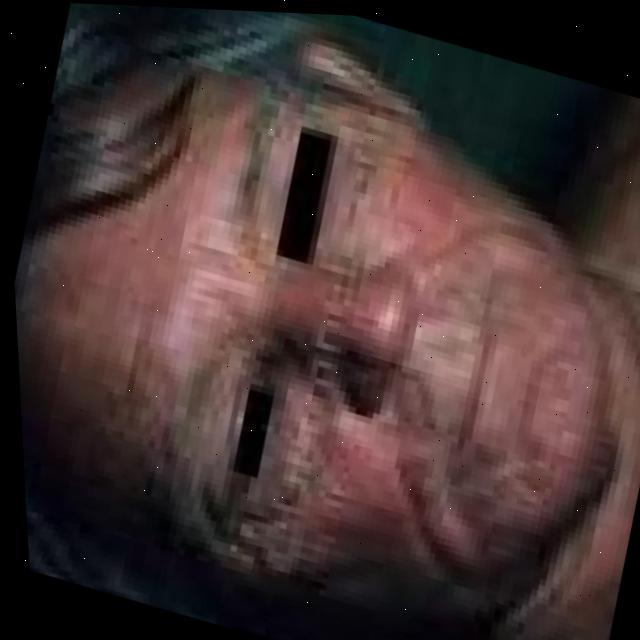Melasma: (221, 413, 375, 591), (492, 320, 597, 485)
